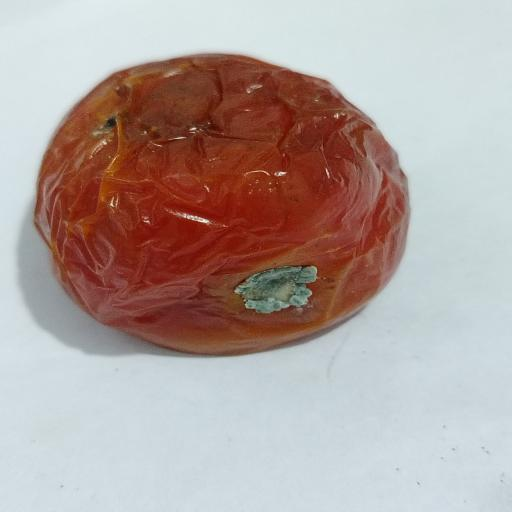spoiled: (35, 54, 409, 354)
